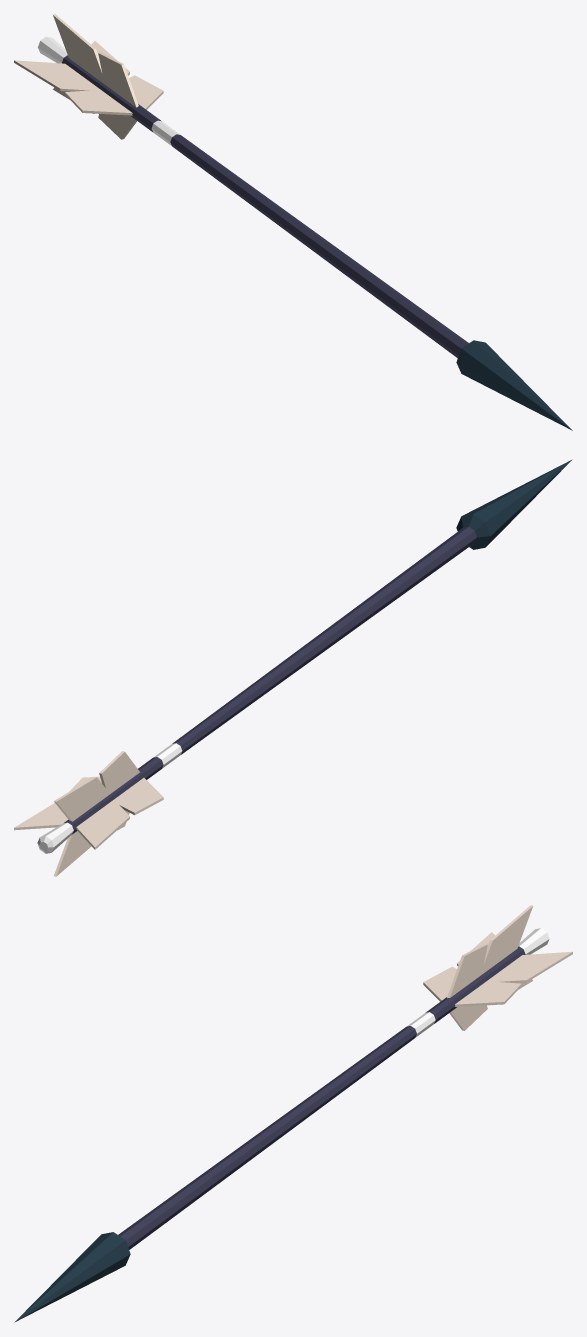
Rendered from SFFA_Arrow_Gold_001.fbx.
3 renders of one model, top to bottom at view 1: azimuth 30°, elevation 25°; view 2: azimuth 150°, elevation 25°; view 3: azimuth 330°, elevation 25°, orthographic.
Parts seen in each view (by area): view 1: SFFA_Arrow_Gold_001; view 2: SFFA_Arrow_Gold_001; view 3: SFFA_Arrow_Gold_001.
Boxes of the visible parts, x1,y1,x2,y2 form: SFFA_Arrow_Gold_001: (14, 14, 572, 430); SFFA_Arrow_Gold_001: (14, 459, 572, 876); SFFA_Arrow_Gold_001: (14, 905, 572, 1322).
Bounding box in the file's own units: 6.32 × 5.58 × 71.39.
